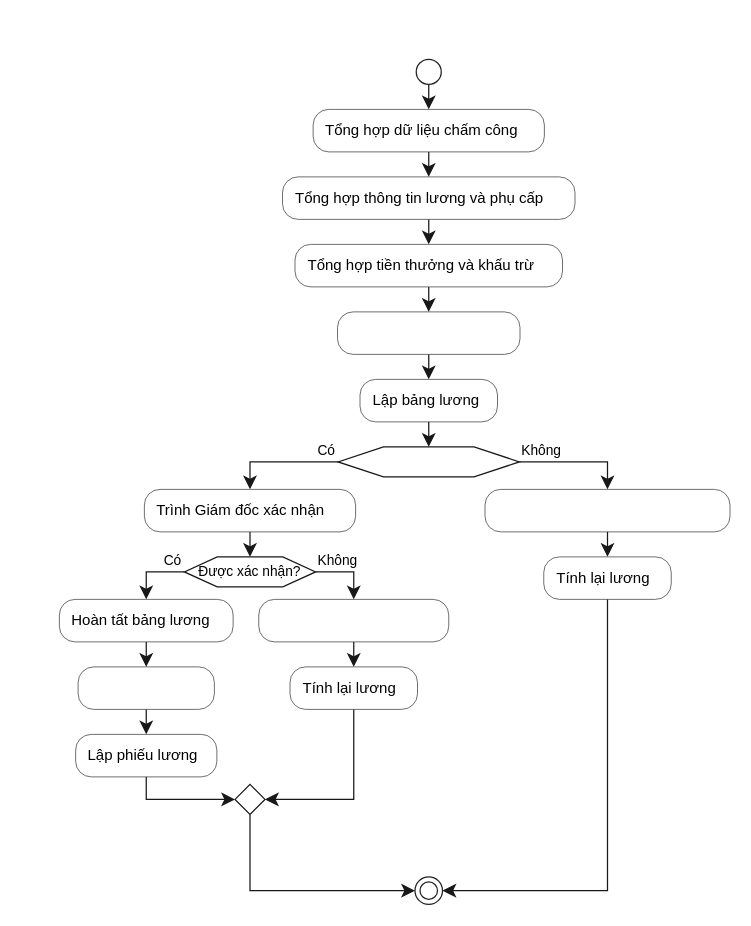
Some shapes in this 751 by 926 pixel diagram are drawn without their labels. The centre of each missing label's shape, as x and y in pixels:
"Bảng lương chính xác?" belongs at pixel 428 461.
"Kiểm tra và điều chỉnh dữ liệu" belongs at pixel 607 510.
"Lưu bảng lương" belongs at pixel 145 687.
"Tính lương nhân viên" belongs at pixel 428 332.
"Điều chỉnh bảng lương" belongs at pixel 353 620.
